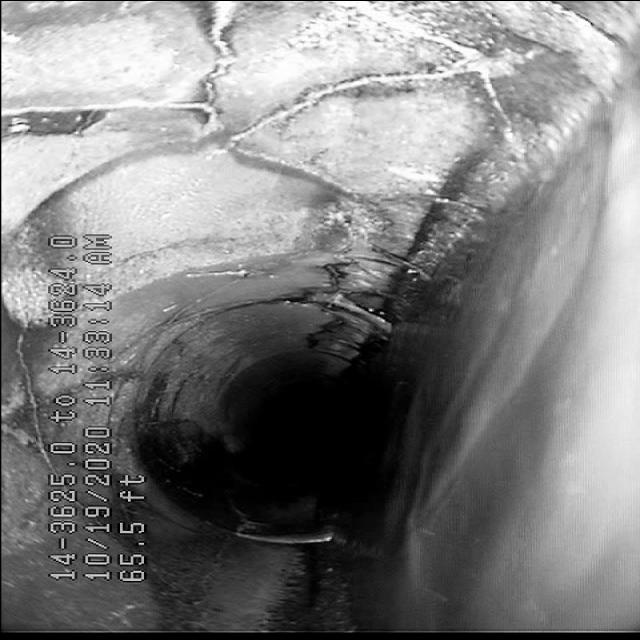Fracture: (178, 40, 422, 292)
